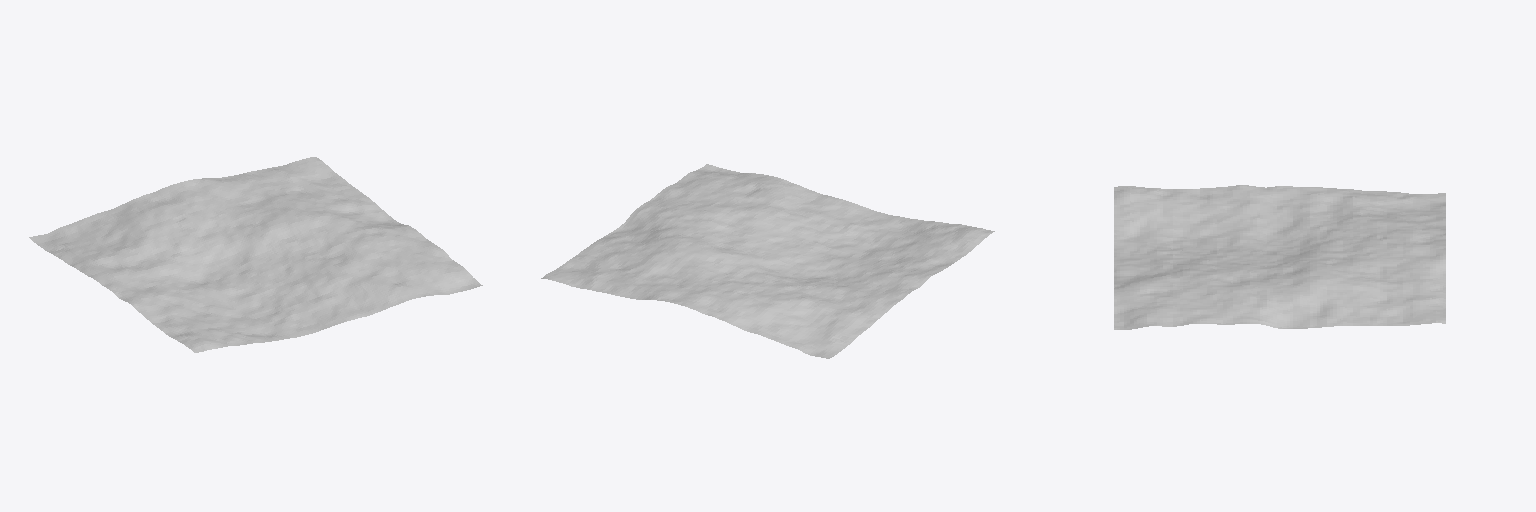
Rendered from Arena_escenario.obj.
The picture shows the model from 3 angles: view 1: azimuth 30°, elevation 25°; view 2: azimuth 150°, elevation 25°; view 3: azimuth 270°, elevation 25°; orthographic projection.
Visible parts, largest first — view 1: BossOutput; view 2: BossOutput; view 3: BossOutput.
Boxes of the visible parts, <box> form: BossOutput: <box>29,157,482,352</box>; BossOutput: <box>541,164,994,358</box>; BossOutput: <box>1114,185,1445,329</box>.
Bounding box in the file's own units: 23.84 × 1.73 × 23.84.